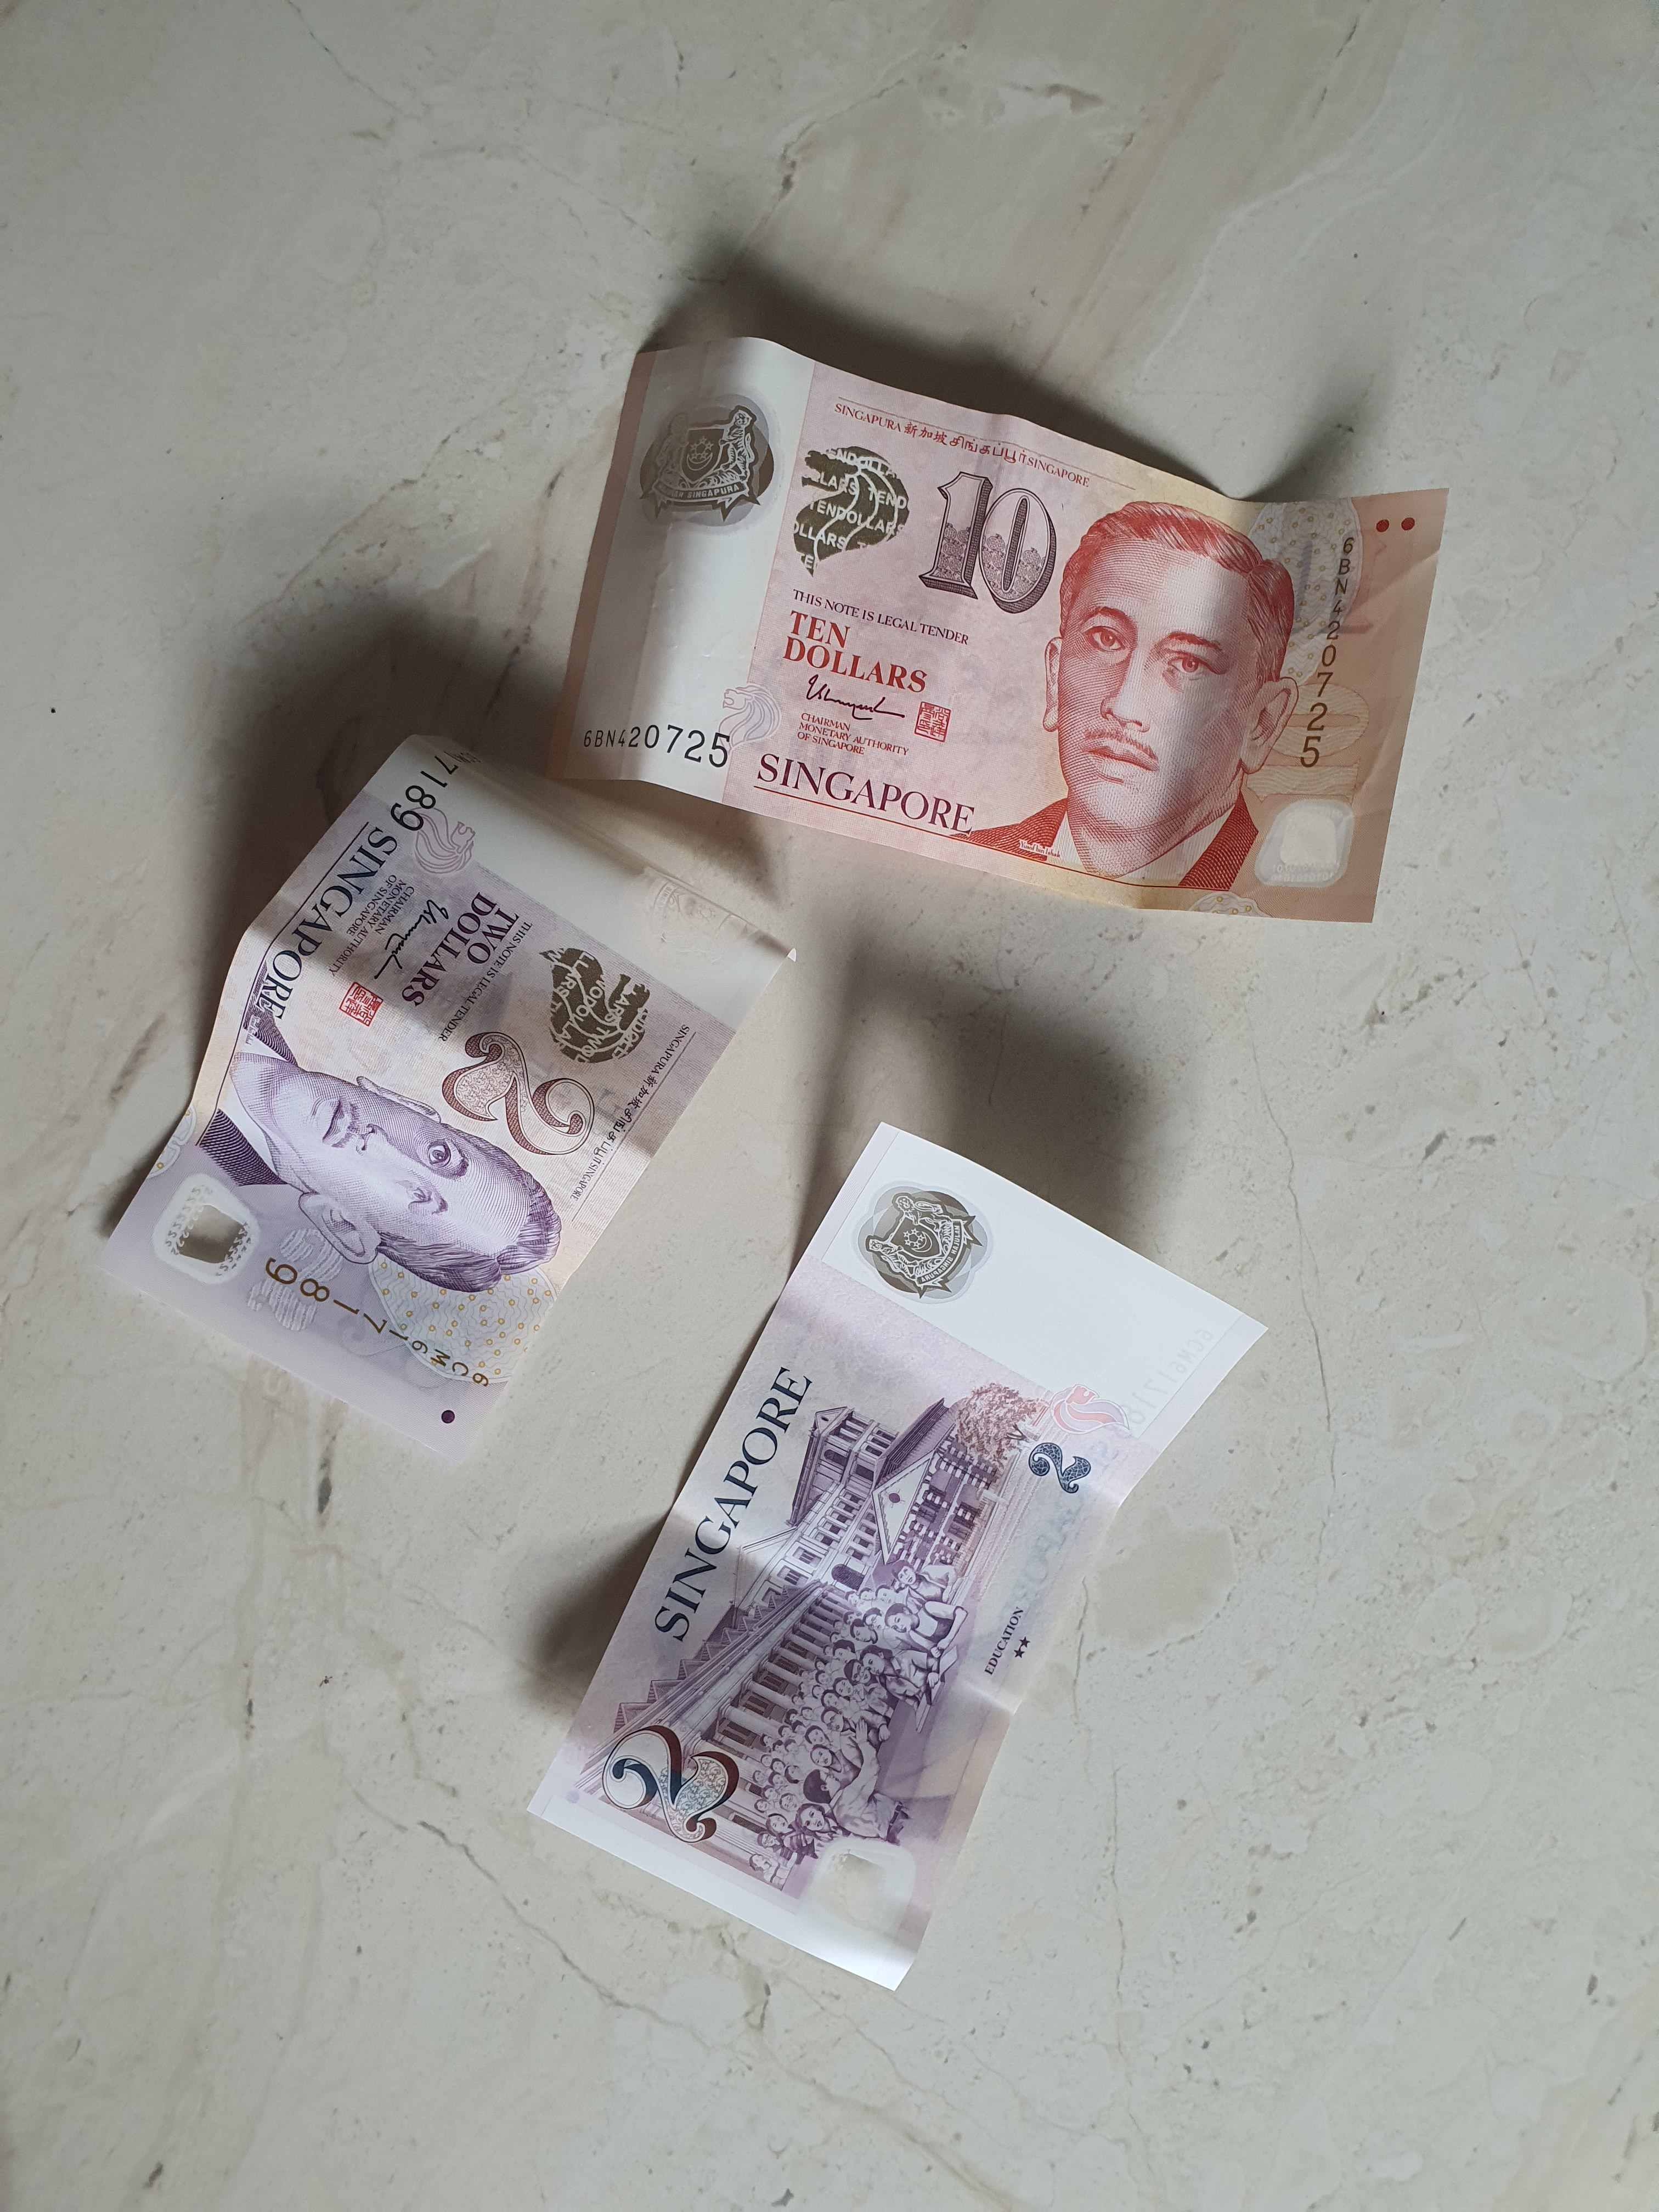$10: (542, 338, 1448, 923)
$2: (526, 1122, 1267, 1989), (96, 732, 798, 1456)
